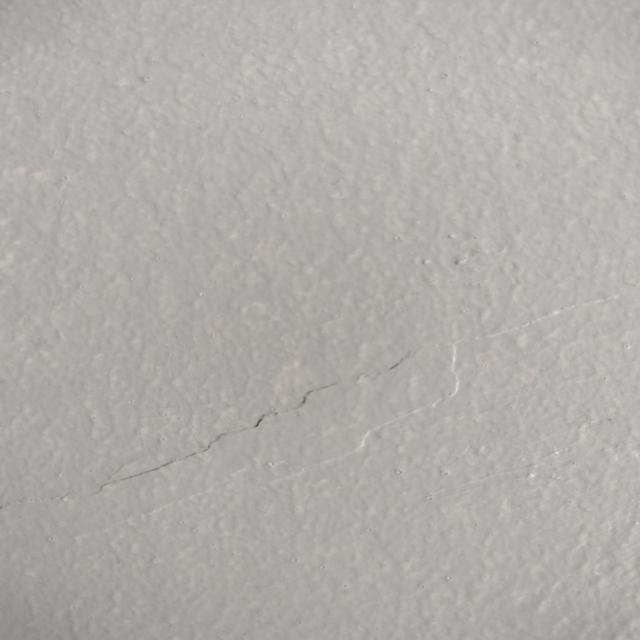Crack: (90, 346, 431, 495)
